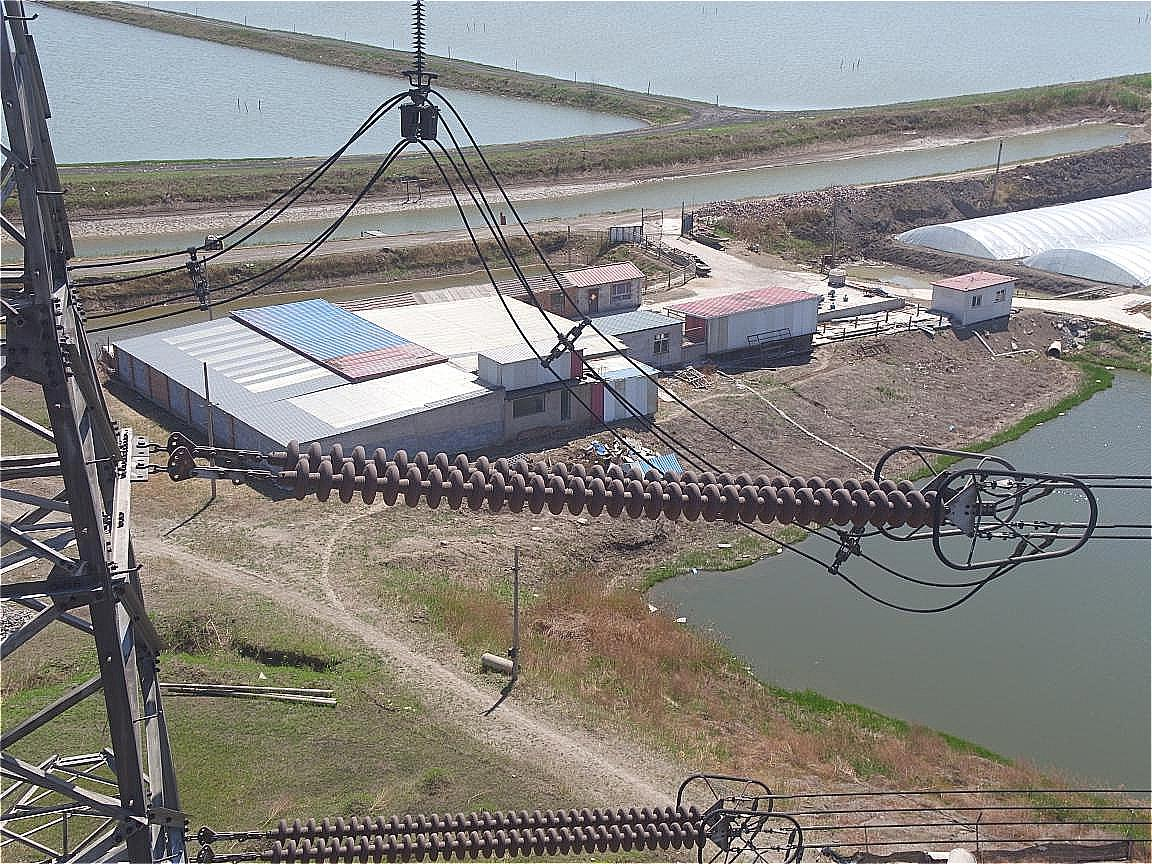insultor1: (272, 417, 971, 556), (255, 788, 729, 864)
